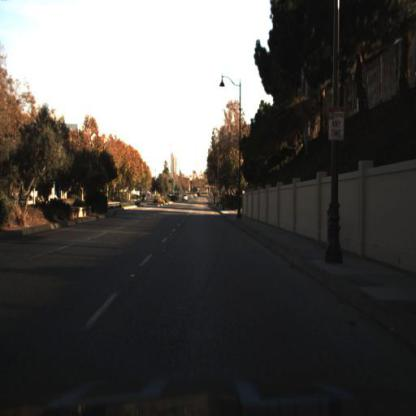car: (180, 190, 192, 209), (140, 192, 151, 207)
